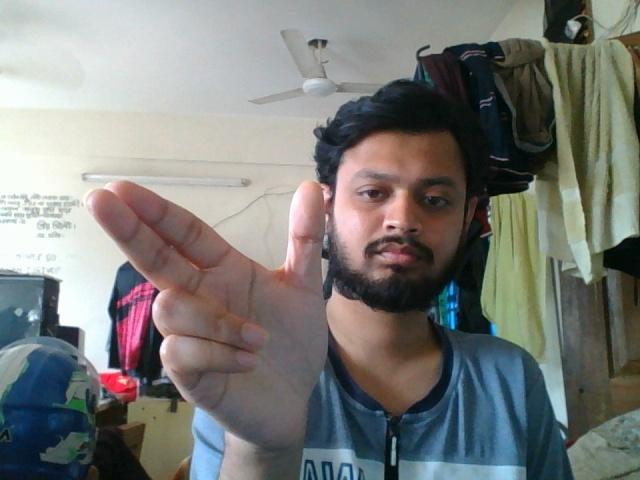jha: (66, 172, 340, 442)
